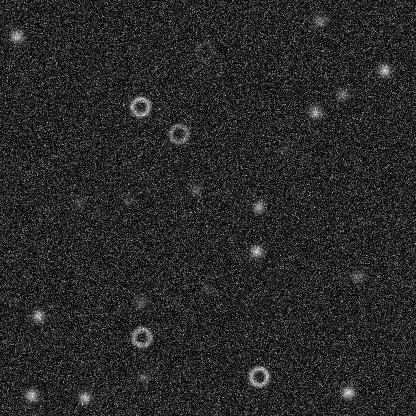Ring: (246, 364, 270, 388), (129, 324, 153, 348), (128, 94, 152, 118), (192, 39, 216, 63), (166, 121, 190, 145)
Spot: (132, 294, 148, 310), (119, 190, 135, 206), (248, 243, 264, 259), (187, 182, 203, 198), (76, 389, 92, 405), (199, 281, 215, 297), (275, 141, 291, 157), (70, 193, 86, 209), (307, 104, 323, 120), (30, 307, 46, 323), (334, 86, 350, 102), (8, 28, 24, 44), (135, 368, 151, 384), (376, 62, 392, 78), (23, 387, 39, 403), (311, 12, 327, 28), (349, 268, 365, 284), (250, 198, 266, 214), (339, 384, 355, 400)
